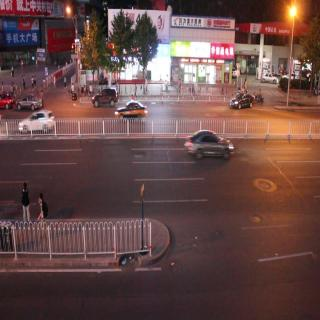Car: (186, 130, 234, 162), (20, 111, 54, 133), (114, 101, 147, 121), (90, 88, 118, 106), (18, 94, 42, 114), (231, 93, 254, 113), (260, 72, 277, 88)
